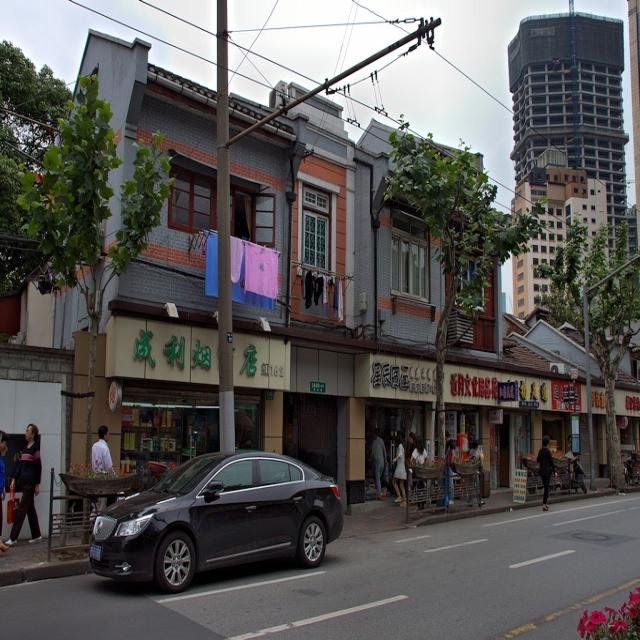car: (84, 444, 344, 591)
